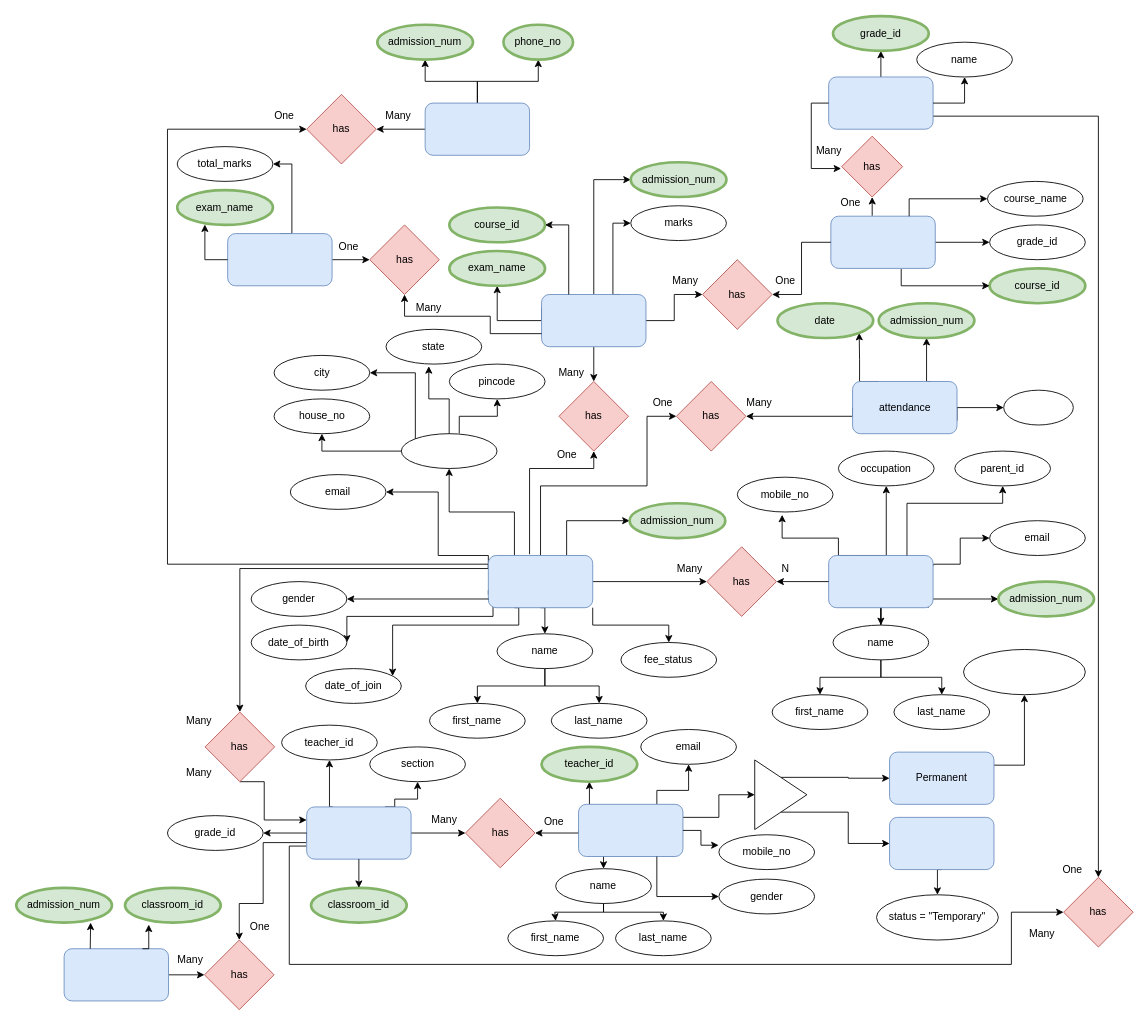
This 1148x1025 diagram has some shape labels left out. The centre of each missing label's shape, as x and y in pixels:
address: (448,450)
classroom: (358,832)
classroom_st: (116,974)
course: (882,241)
exam: (279,259)
grade: (880,102)
ISA: (780,794)
parent: (880,581)
result: (593,320)
status: (1038,407)
status = "Permanent": (1024,672)
student: (540,581)
student_ph: (477,128)
teacher: (630,830)
Temporary: (941,843)
